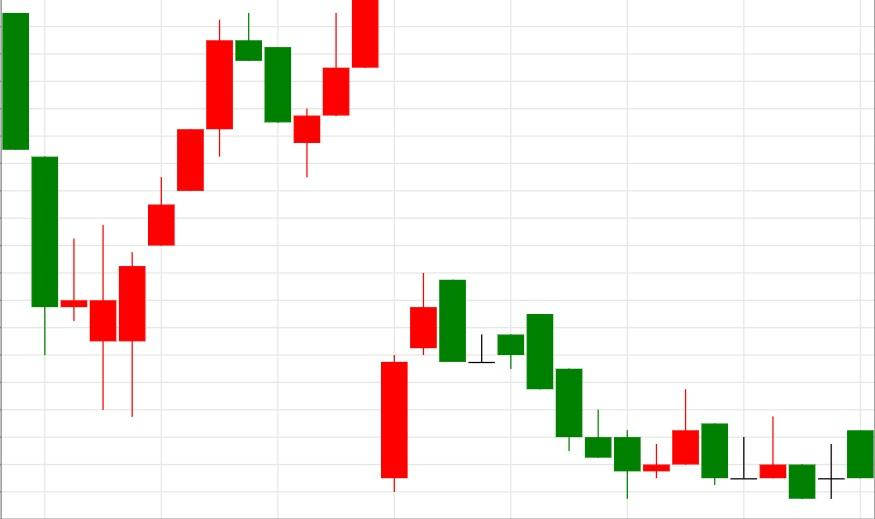three_white_soldiers_rise: (2, 12, 205, 416), (235, 0, 379, 177)
